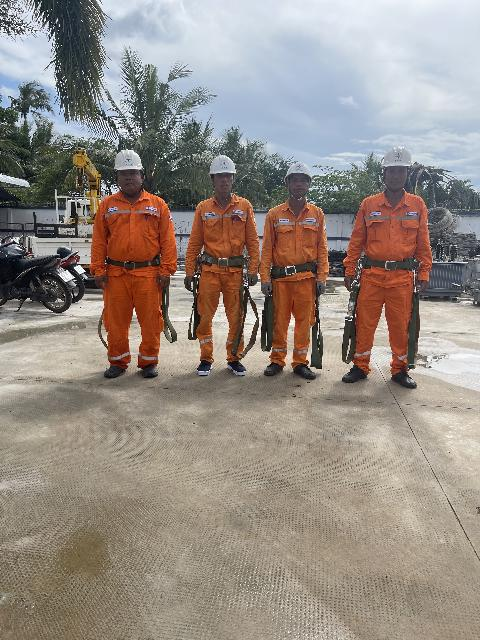harness: (95, 245, 173, 274), (188, 242, 256, 273), (344, 254, 428, 276), (266, 259, 322, 286)
helmet: (196, 151, 247, 180), (377, 143, 419, 175), (273, 159, 315, 189), (114, 142, 148, 179)
shoes: (339, 359, 381, 388), (289, 358, 320, 384), (137, 358, 165, 386), (228, 351, 254, 381), (385, 369, 419, 391), (102, 359, 134, 380), (267, 360, 282, 382), (197, 359, 213, 377)
